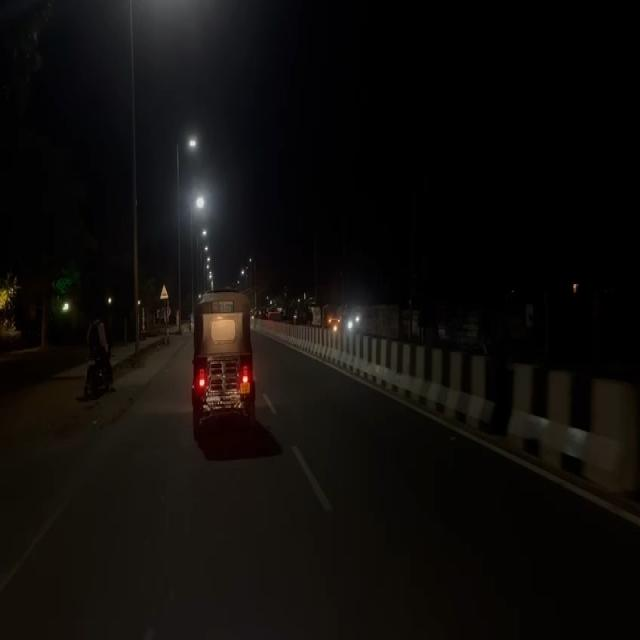bien_cam: (160, 283, 168, 303)
